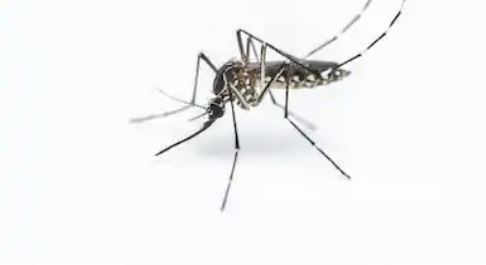dengue_mosquito: (166, 28, 350, 179)
